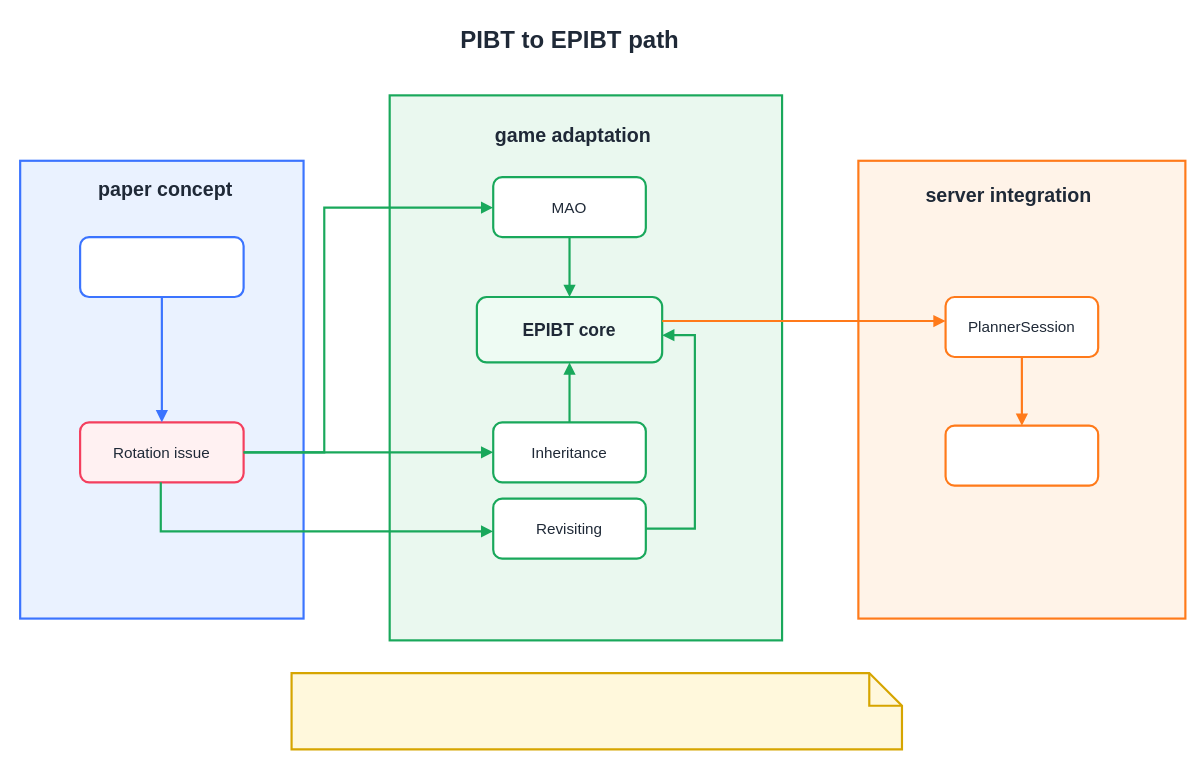
Some shapes in this 1204 by 768 pixel diagram are drawn without their labels. Here are the shapes that lost their labels. From the top down, the box of each, then its label:
(78, 235, 244, 298): Causal PIBT
(944, 424, 1099, 486): First action
(290, 671, 903, 750): Source: Yukhnevich and Andreychuk, AAAI 2026, arXiv:2511.09193
